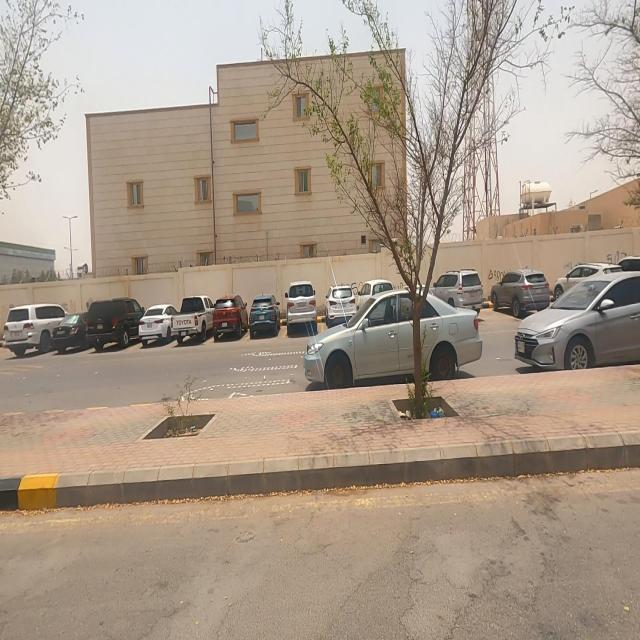Graffiti: (606, 249, 630, 263), (488, 269, 502, 286), (353, 282, 363, 294), (566, 261, 574, 273), (396, 285, 405, 290)
